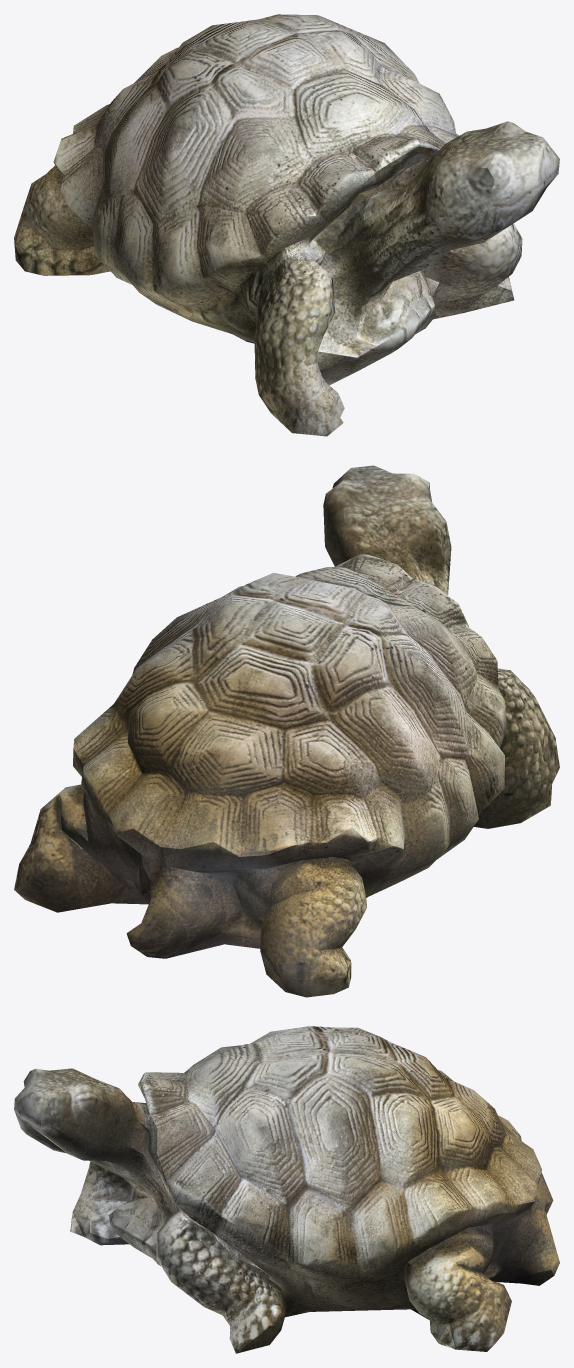
The model's file is statue.glb.
3 renders of one model, top to bottom at view 1: azimuth 30°, elevation 25°; view 2: azimuth 150°, elevation 25°; view 3: azimuth 270°, elevation 25°, orthographic. The views are drawn at different scales.
Parts seen in each view (by area): view 1: geo1; view 2: geo1; view 3: geo1.
Part boxes in pixels (x1=…): geo1: x1=14, y1=14, x2=559, y2=436; geo1: x1=14, y1=465, x2=559, y2=997; geo1: x1=14, y1=1026, x2=559, y2=1353.
Size of the model in its own units: 0.00287 by 0.00212 by 0.00442.
1 material, 1 textured.
